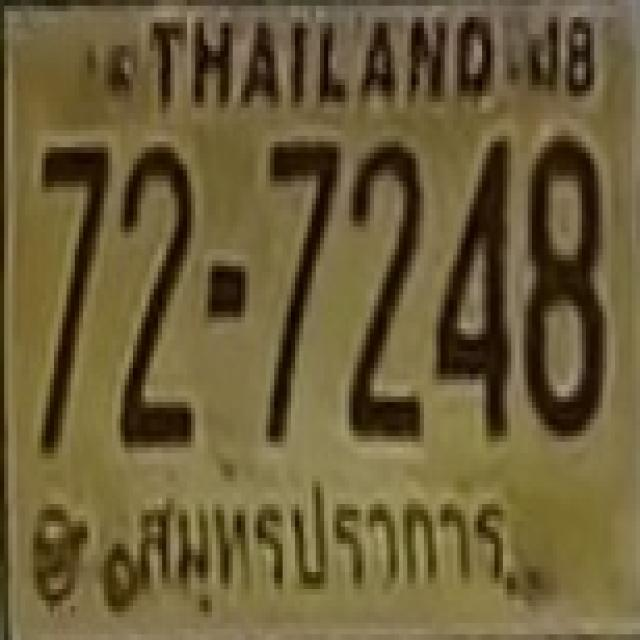2: (118, 142, 194, 408), (347, 142, 422, 408), (349, 136, 420, 385)
4: (432, 133, 507, 433)
7: (37, 142, 104, 414), (266, 136, 337, 357), (37, 142, 104, 356), (266, 136, 337, 328), (37, 142, 104, 328), (266, 136, 337, 300)
8: (520, 130, 598, 430)
SPK: (118, 476, 516, 605)
